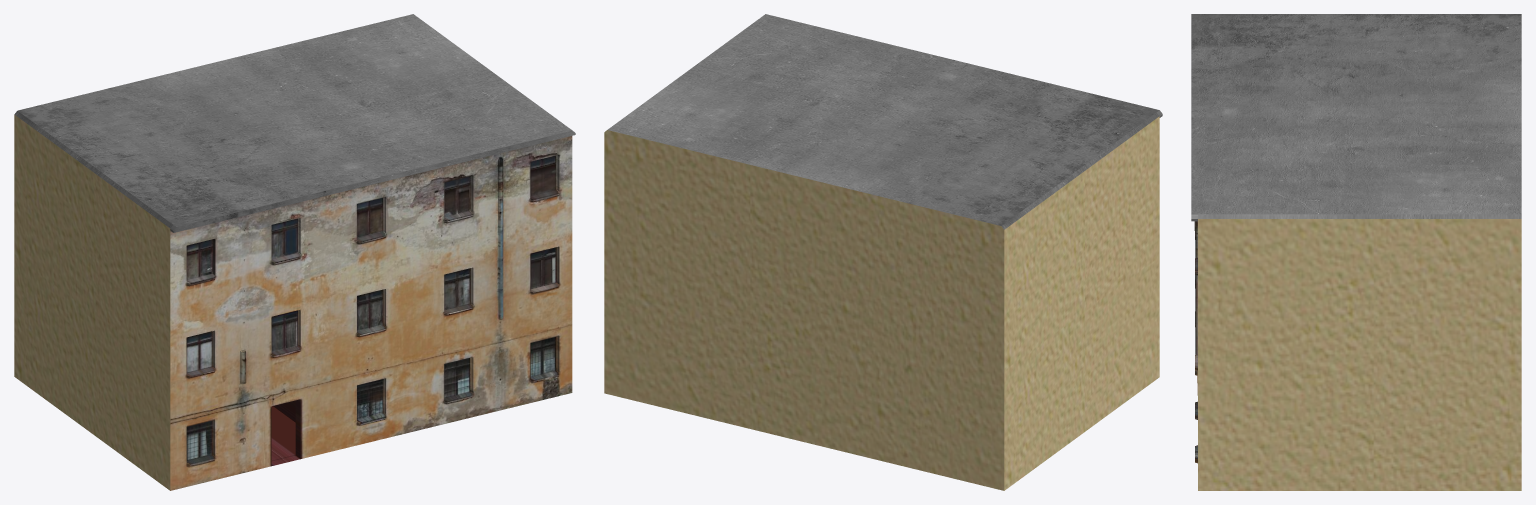
File: OLD_BUILDING_03.fbx
3 views of the same model, side by side, from view 1: azimuth 30°, elevation 25°; view 2: azimuth 150°, elevation 25°; view 3: azimuth 270°, elevation 25° (orthographic). The views are drawn at different scales.
Visible parts, largest first — view 1: OLD_BUILDING_03; view 2: OLD_BUILDING_03; view 3: OLD_BUILDING_03.
Boxes of the visible parts, x1,y1,x2,y2 form: OLD_BUILDING_03: [14, 14, 575, 490]; OLD_BUILDING_03: [604, 14, 1162, 490]; OLD_BUILDING_03: [1191, 14, 1521, 490].
Bounding box in the file's own units: 1791 × 1130 × 1228.
